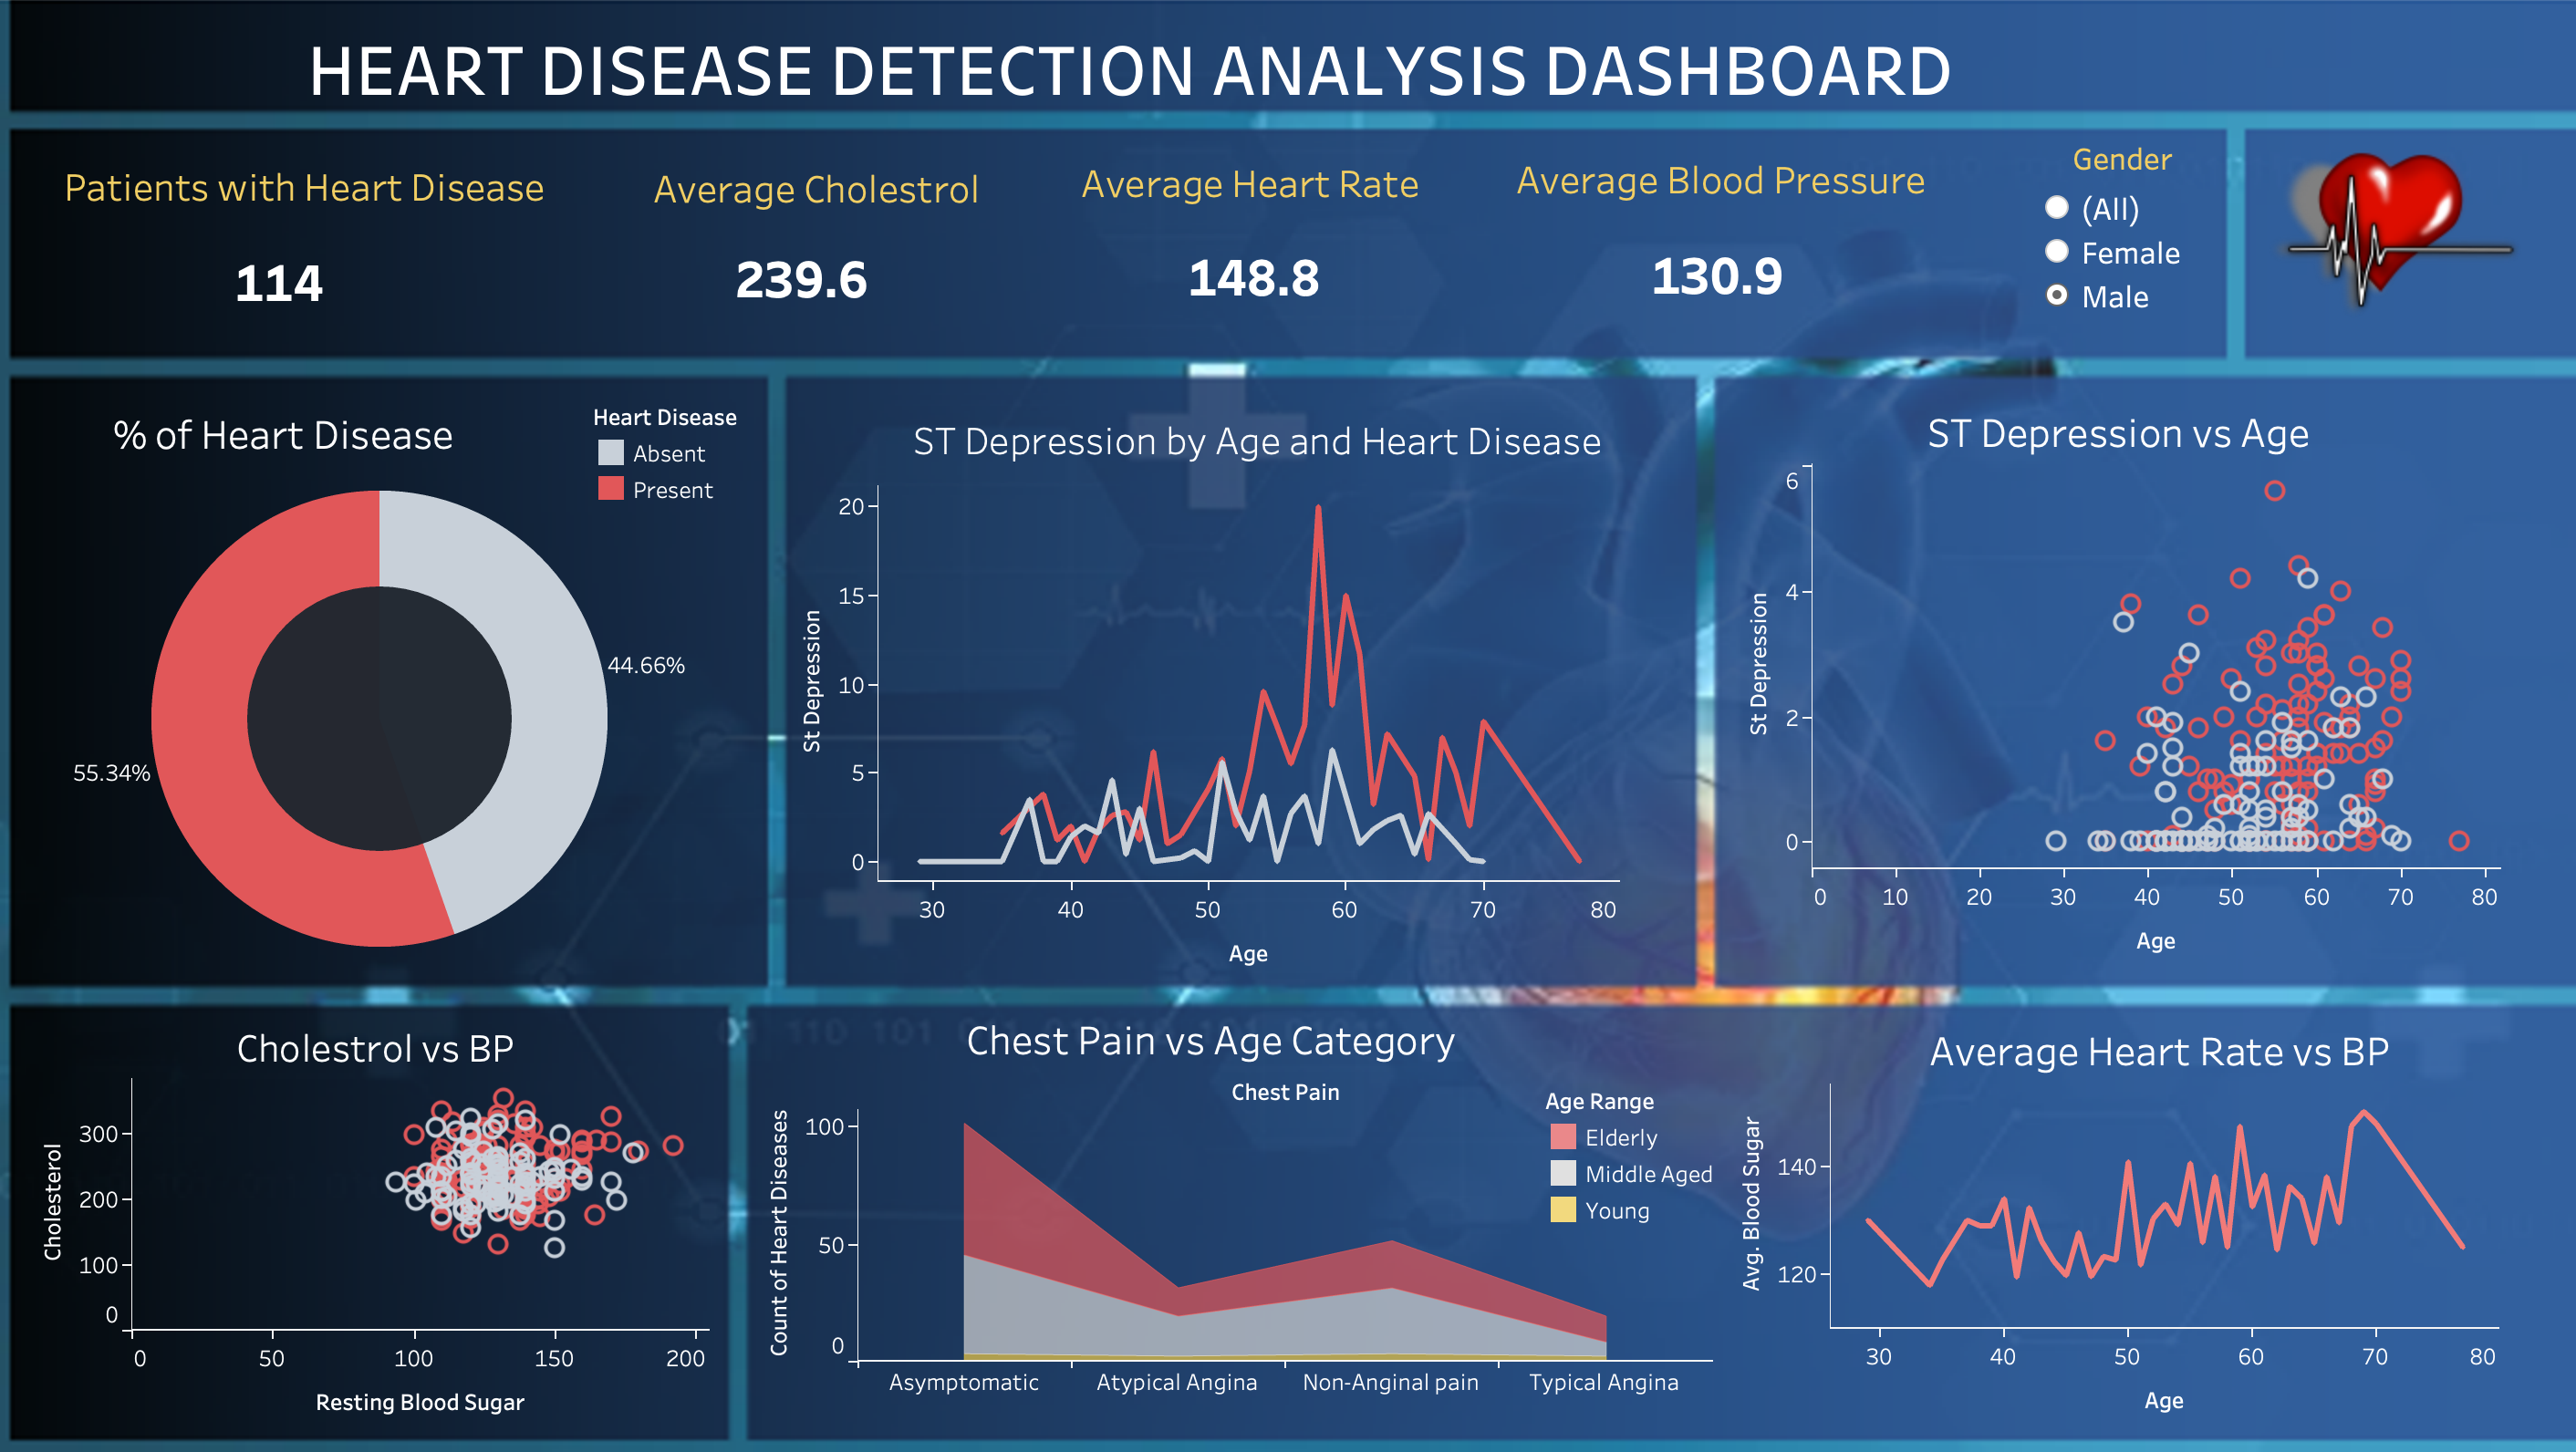

This screenshot's page, from the dashboard's own definition file:
{"tool":"tableau","page":{"name":"Dashboard 1","canvas":[1366,768],"ordinal":0},"visuals":[{"type":"text","box":[22,15,1177,48]},{"type":"filter","title":"No of heart disease","param":"[federated.1w3f4rj0k9rt7q15dwo9y1kv1xxl].[none:sex1:nk]","box":[1106,78,97,100]},{"type":"text","box":[10,81,296,46]},{"type":"text","box":[795,87,279,27]},{"type":"text","box":[546,88,261,28]},{"type":"text","box":[313,91,252,29]},{"type":"worksheet","title":"No of heart disease","mark":"Automatic","rows":["Heart_Disease"],"box":[66,127,155,57]},{"type":"worksheet","title":"Average Blood Pressure","mark":"Automatic","box":[873,133,116,51]},{"type":"worksheet","title":"Average Heart Rate","mark":"Automatic","box":[619,134,126,40]},{"type":"worksheet","title":"Average Cholestrol","mark":"Automatic","box":[371,135,121,47]},{"type":"text","box":[13,217,267,45]},{"type":"text","box":[1015,219,275,38]},{"type":"legend","title":"% of heart disease","param":"[federated.1w3f4rj0k9rt7q15dwo9y1kv1xxl].[none:Heart_Disease:nk]","box":[316,222,91,54]},{"type":"text","box":[489,228,383,30]},{"type":"worksheet","title":"ST Depression vs Age","mark":"Automatic","rows":["st_depression"],"cols":["age"],"box":[939,256,423,277]},{"type":"worksheet","title":"% of heart disease","mark":"Pie","rows":["Calculation_4205165830746132482","Calculation_4205165830746337285"],"box":[3,263,392,266]},{"type":"worksheet","title":"Sheet 13","mark":"Line","rows":["st_depression"],"cols":["age"],"box":[420,268,459,272]},{"type":"text","box":[518,556,274,30]},{"type":"text","box":[118,561,158,30]},{"type":"text","box":[1046,562,258,30]},{"type":"legend","title":"Chest Pain vs Age Category","param":"[federated.1w3f4rj0k9rt7q15dwo9y1kv1xxl].[none:Age_Range:nk]","box":[838,597,101,78]}]}

Visuals, with their boxes in screenshot pixels (x1, y1, x2, y2), scaled from the page's 1366x768 canvas onto the 2576x1452 screenshot:
text: rect(41, 28, 2261, 119)
"No of heart disease" filter: rect(2085, 148, 2269, 337)
text: rect(19, 153, 577, 240)
text: rect(1500, 164, 2025, 215)
text: rect(1030, 166, 1522, 219)
text: rect(590, 172, 1065, 227)
"No of heart disease" worksheet: rect(124, 240, 417, 347)
"Average Blood Pressure" worksheet: rect(1646, 252, 1865, 347)
"Average Heart Rate" worksheet: rect(1168, 254, 1405, 329)
"Average Cholestrol" worksheet: rect(700, 255, 928, 344)
text: rect(25, 410, 528, 495)
text: rect(1914, 414, 2433, 486)
"% of heart disease" legend: rect(596, 420, 767, 522)
text: rect(922, 431, 1645, 488)
"ST Depression vs Age" worksheet: rect(1771, 484, 2569, 1008)
"% of heart disease" worksheet (Pie marks): rect(5, 497, 745, 1001)
"Sheet 13" worksheet (Line marks): rect(792, 507, 1657, 1021)
text: rect(977, 1052, 1493, 1108)
text: rect(223, 1061, 521, 1117)
text: rect(1972, 1063, 2459, 1119)
"Chest Pain vs Age Category" legend: rect(1580, 1129, 1771, 1276)
